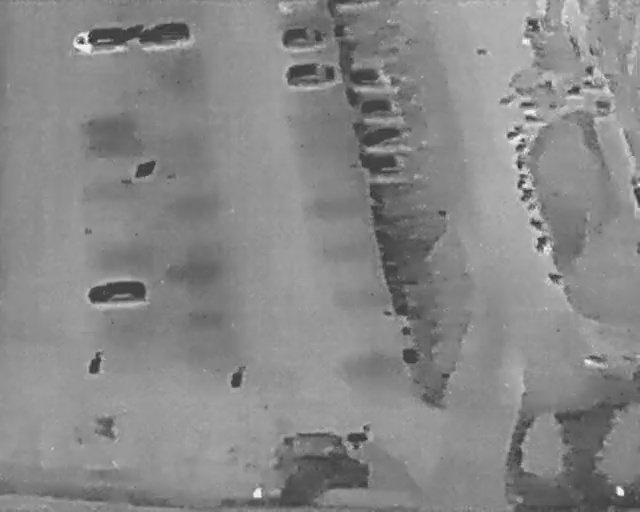Car: (277, 432, 354, 472), (87, 278, 148, 307), (71, 29, 129, 53), (139, 23, 190, 50), (285, 64, 340, 88), (282, 27, 326, 50), (363, 126, 407, 149), (364, 155, 414, 175), (349, 66, 396, 87), (361, 96, 405, 118)
